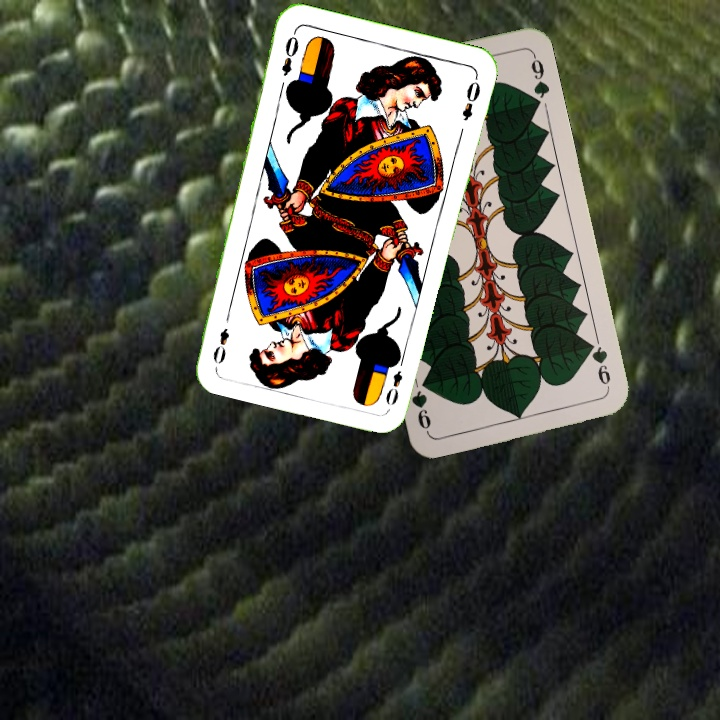EO: (381, 352, 407, 408), (277, 27, 301, 79)
G9: (583, 337, 613, 392)
